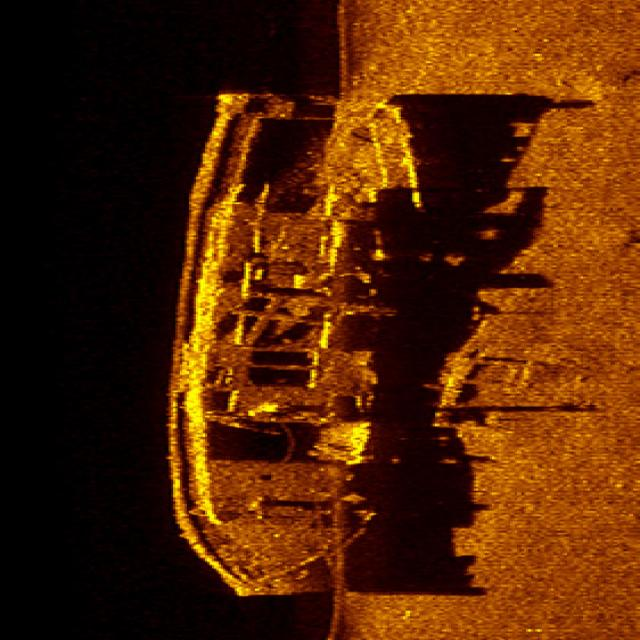ship: (180, 82, 410, 601)
